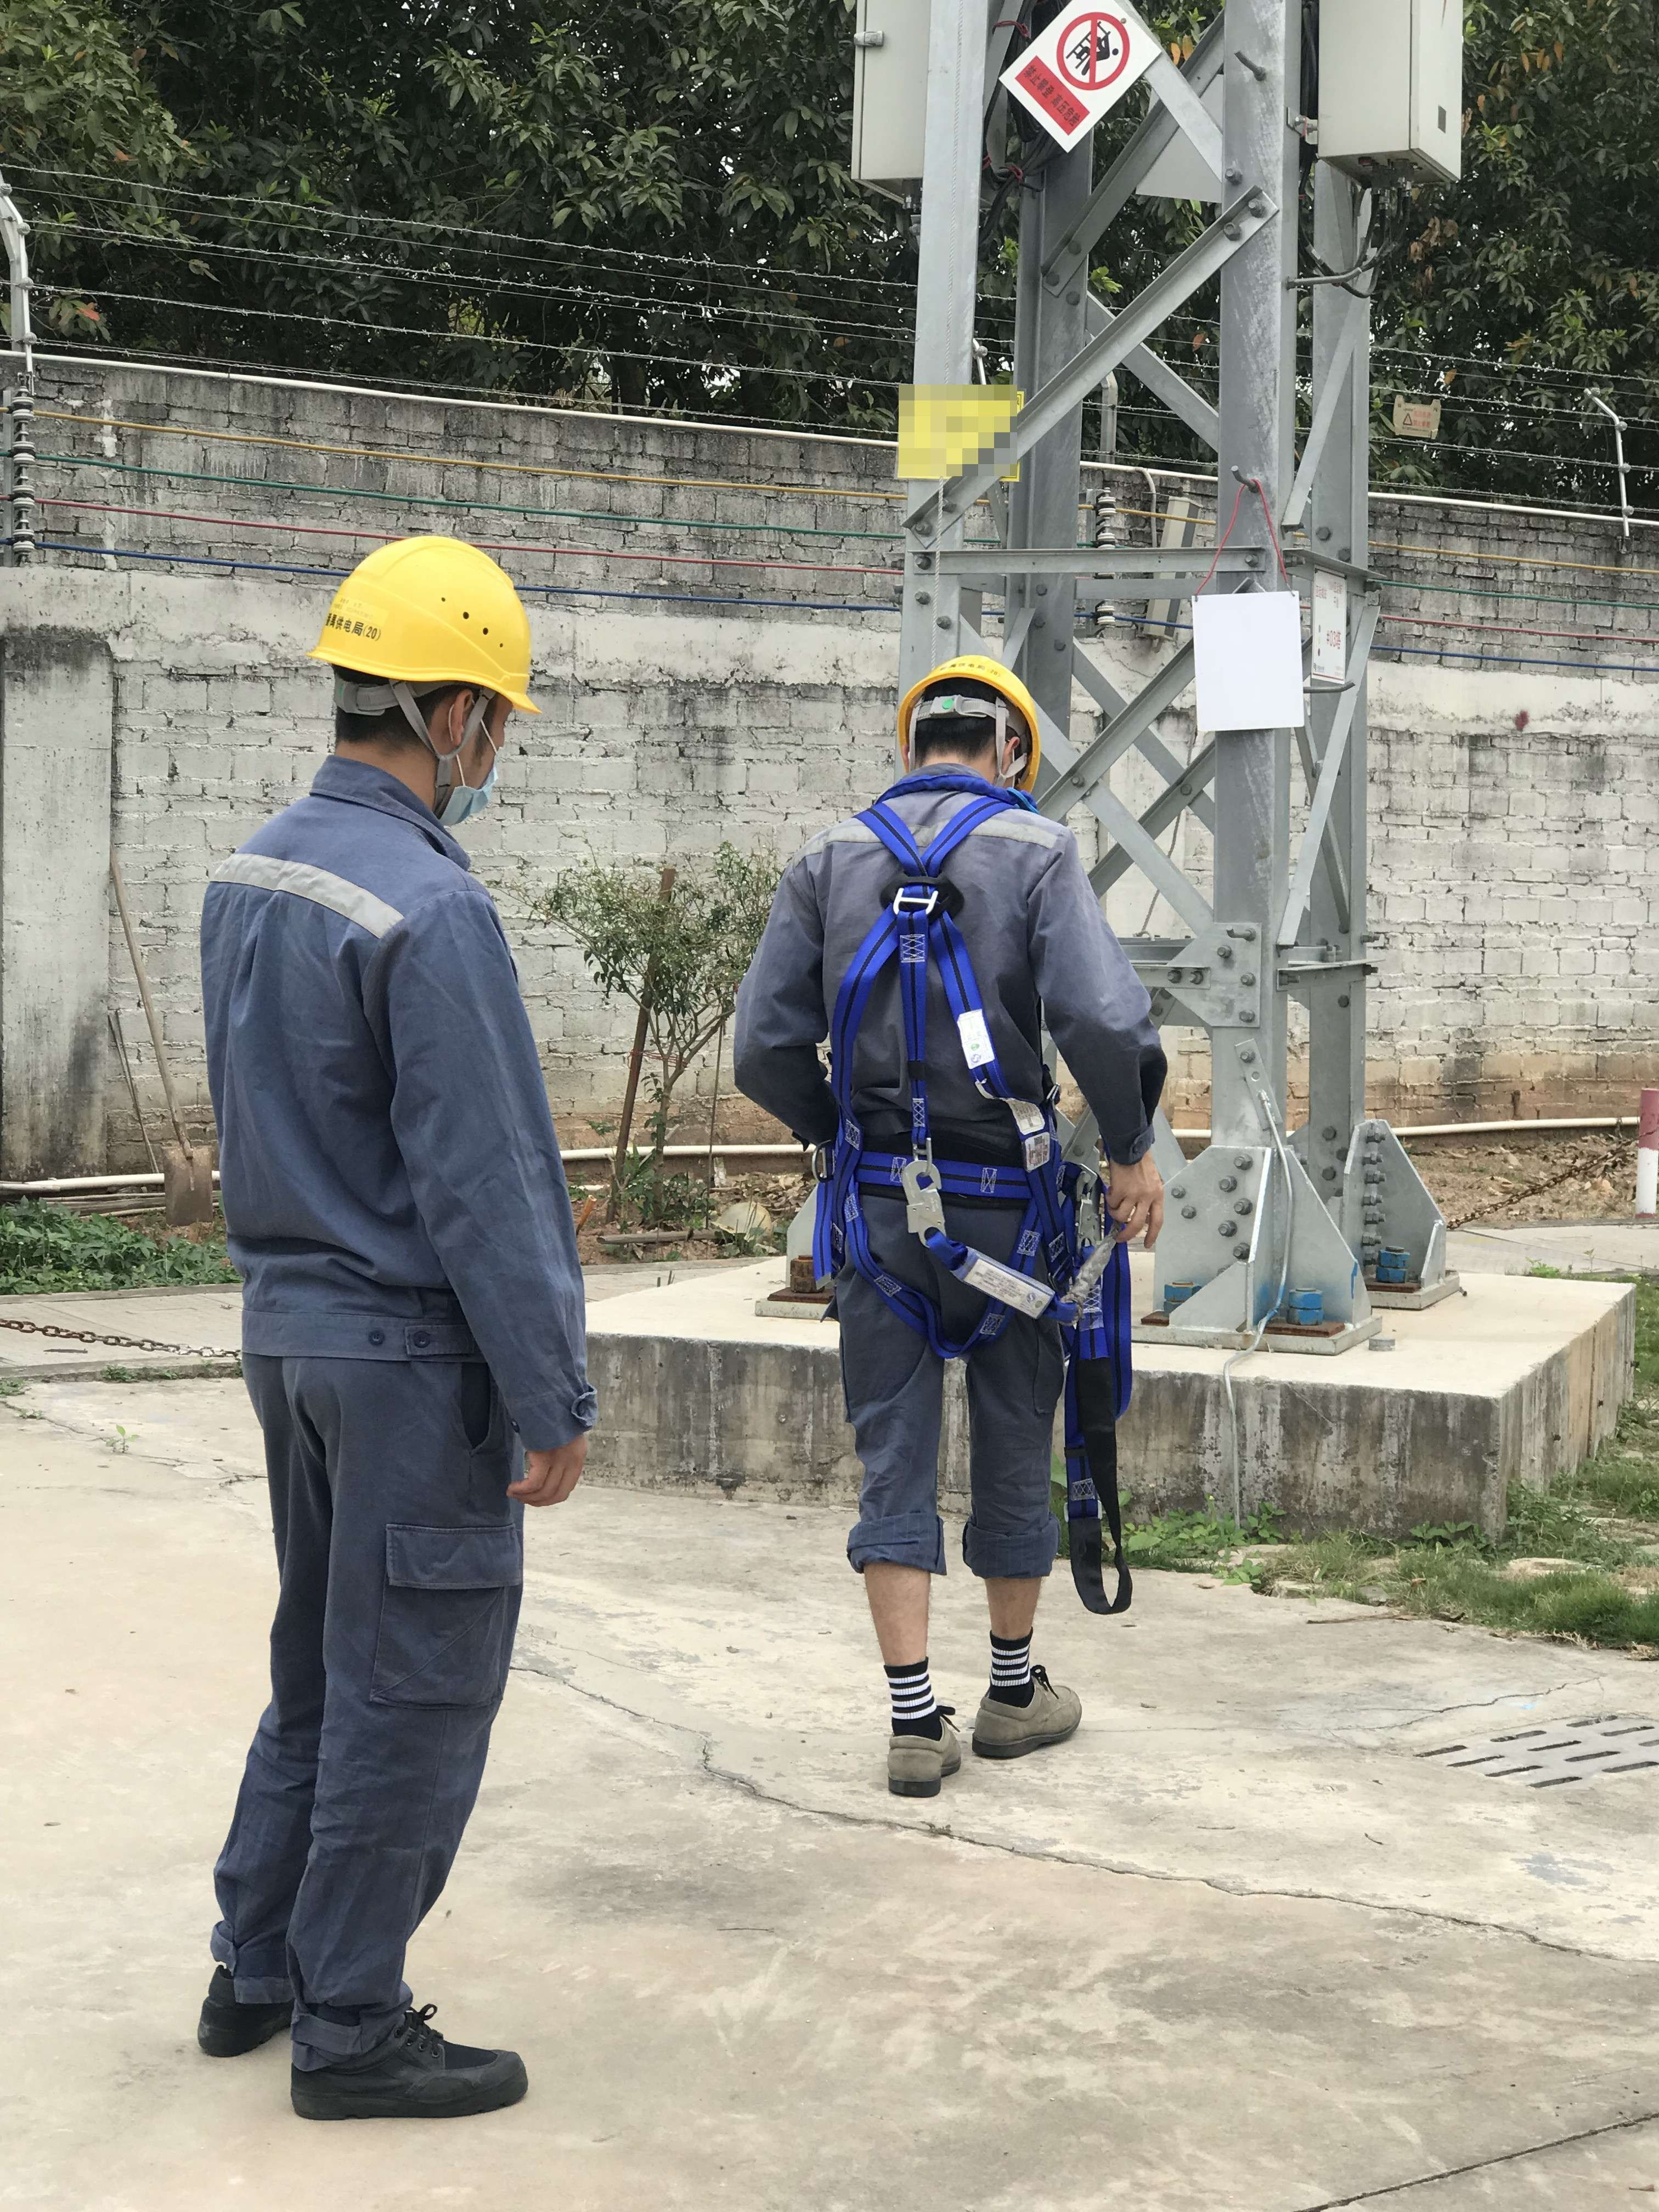downsuit: (202, 1371, 530, 2034), (812, 1179, 1086, 1583)
upsuit: (192, 758, 599, 1355), (739, 763, 1173, 1170)
wrongbottom: (843, 1507, 1051, 1696)
